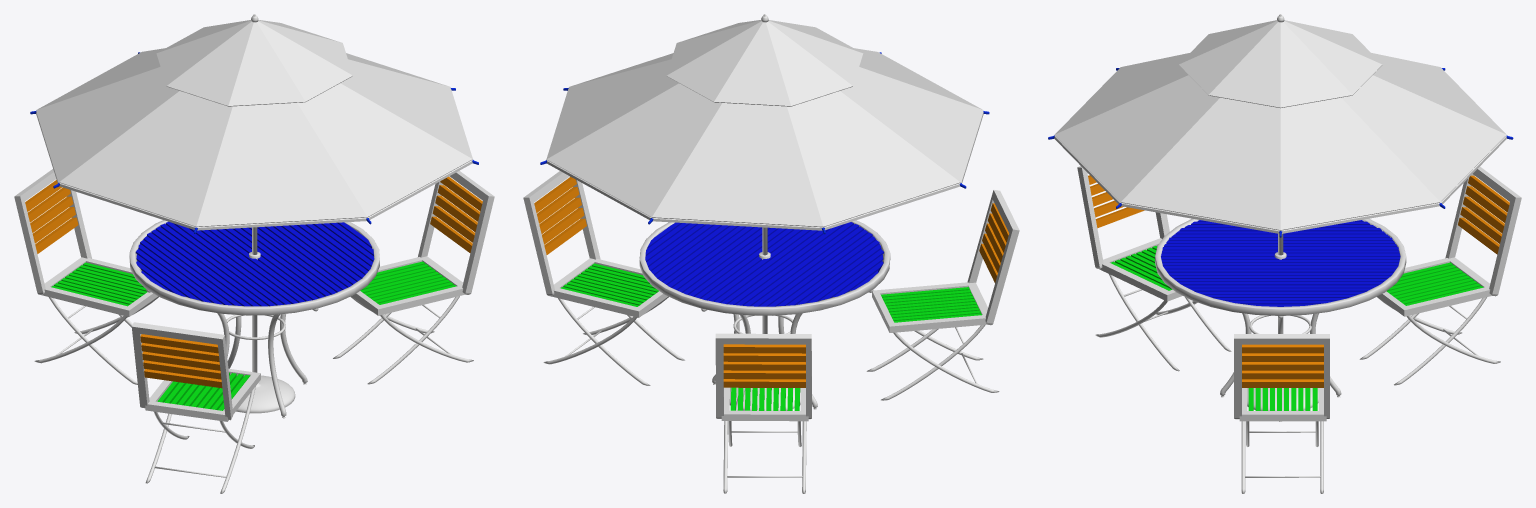
Rendered from parasoldesk.fbx.
The picture shows the model from 3 angles, left to right: view 1: azimuth 30°, elevation 25°; view 2: azimuth 150°, elevation 25°; view 3: azimuth 270°, elevation 25°; orthographic projection.
Visible parts, largest first — view 1: desk.001, chair.003, chair.001, chair.002; view 2: desk.001, chair.001, chair.003, chair.002; view 3: desk.001, chair.002, chair.001, chair.003.
Part boxes in pixels (<box>): desk.001: <box>30,14,478,418</box>; chair.003: <box>131,322,260,493</box>; chair.001: <box>333,171,494,384</box>; chair.002: <box>14,169,158,384</box>; desk.001: <box>540,14,989,410</box>; chair.001: <box>523,171,684,385</box>; chair.003: <box>866,190,1019,400</box>; chair.002: <box>715,333,811,493</box>; desk.001: <box>1048,14,1513,421</box>; chair.002: <box>1359,166,1521,385</box>; chair.001: <box>1234,334,1329,493</box>; chair.003: <box>1077,166,1231,371</box>.
Bounding box in the file's own units: 771 × 677 × 756.
